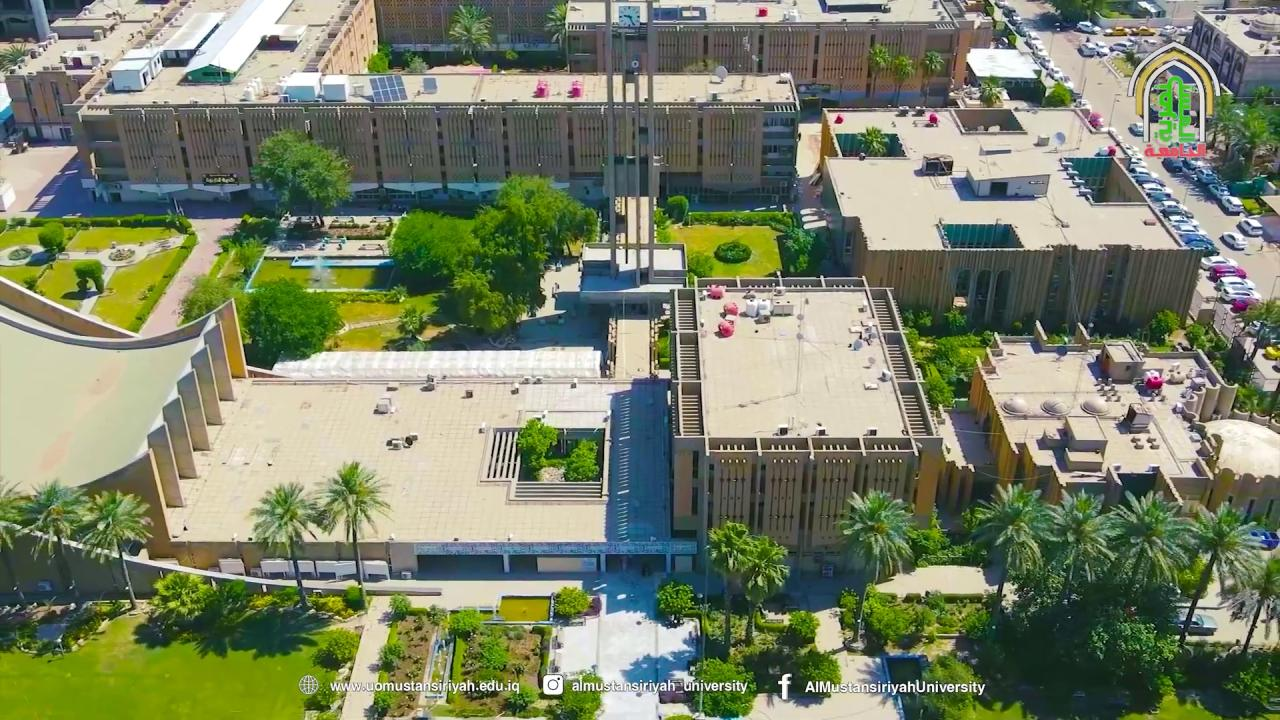car: (1170, 609, 1218, 637), (658, 679, 689, 703), (1220, 285, 1258, 303), (1220, 229, 1250, 251), (1152, 200, 1191, 216), (1212, 264, 1250, 280), (1165, 211, 1200, 228), (1188, 241, 1222, 258), (1200, 255, 1236, 271), (1141, 185, 1177, 200), (1216, 276, 1257, 289), (1172, 223, 1210, 237), (1236, 216, 1262, 236), (1193, 164, 1219, 184), (1183, 231, 1214, 247), (1220, 194, 1244, 214), (1158, 154, 1184, 172), (1154, 208, 1196, 218), (1208, 184, 1230, 200), (1076, 20, 1100, 33), (1134, 176, 1166, 185)
fountain: (243, 221, 399, 294), (886, 653, 940, 720), (458, 594, 554, 625)
tree: (387, 171, 599, 339), (469, 172, 599, 278), (310, 459, 394, 606), (1175, 501, 1256, 642), (237, 274, 345, 369), (251, 127, 354, 226), (3, 478, 88, 594), (1102, 488, 1191, 598), (76, 487, 154, 610), (960, 480, 1050, 585), (248, 480, 320, 611), (1039, 488, 1117, 603), (386, 207, 478, 294), (834, 488, 916, 584), (655, 579, 709, 717), (1205, 84, 1279, 178), (703, 518, 753, 646), (737, 533, 790, 644), (449, 267, 529, 338), (1223, 555, 1279, 654), (296, 143, 353, 228), (918, 650, 983, 718), (146, 570, 214, 634), (687, 656, 757, 718), (0, 475, 32, 598), (176, 273, 237, 325), (1226, 105, 1270, 175), (868, 44, 913, 108), (447, 2, 492, 64), (514, 417, 558, 479), (543, 1, 581, 72), (795, 646, 842, 695), (1206, 90, 1241, 155), (1240, 297, 1279, 348), (655, 580, 696, 626), (780, 224, 816, 274), (1155, 79, 1181, 145), (924, 365, 956, 416), (918, 48, 944, 108), (564, 438, 599, 481), (552, 585, 591, 623), (866, 43, 890, 98), (444, 607, 483, 640), (888, 55, 913, 106), (1148, 308, 1181, 345), (544, 0, 568, 50), (786, 610, 819, 646), (37, 220, 67, 258), (73, 259, 104, 294), (396, 302, 426, 338), (856, 125, 889, 156), (1044, 0, 1083, 26), (685, 249, 714, 283), (713, 239, 752, 263), (0, 42, 27, 74), (978, 74, 1004, 107), (652, 206, 672, 243), (1079, 0, 1108, 25), (387, 592, 411, 621), (1044, 81, 1071, 106), (665, 194, 688, 223)
